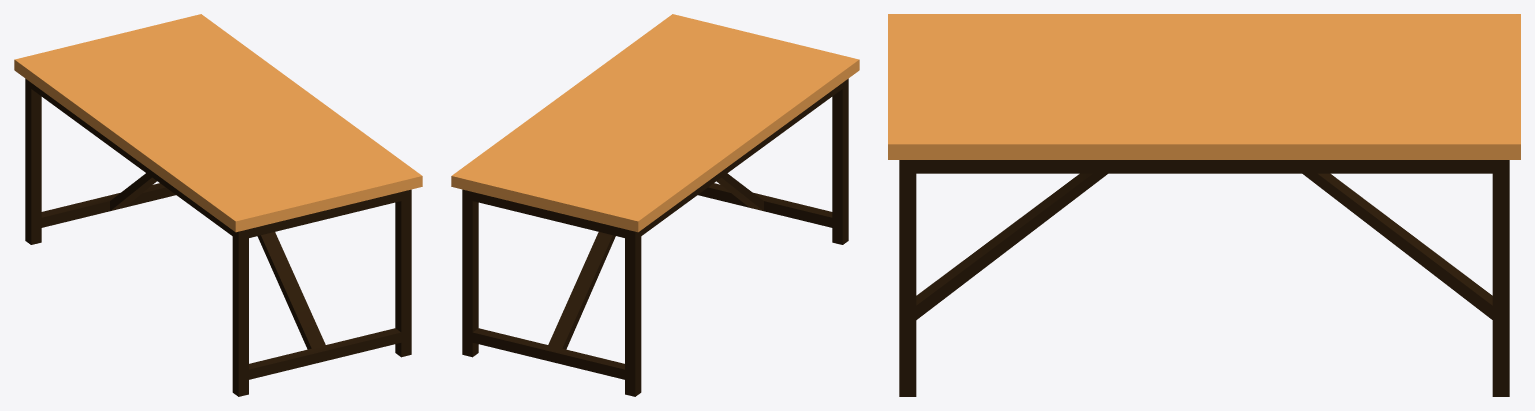
The model's file is large_table.FBX.
3 views of the same model, side by side, from view 1: azimuth 30°, elevation 25°; view 2: azimuth 150°, elevation 25°; view 3: azimuth 270°, elevation 25° (orthographic). The views are drawn at different scales.
Parts seen in each view (by area): view 1: large_table; view 2: large_table; view 3: large_table.
Part boxes in pixels (<box>): large_table: <box>14,14,422,396</box>; large_table: <box>451,14,859,396</box>; large_table: <box>888,14,1520,396</box>.
Size of the model in its own units: 37.16 by 34.22 by 76.23.
Materials: 1 (1 with a texture image).
